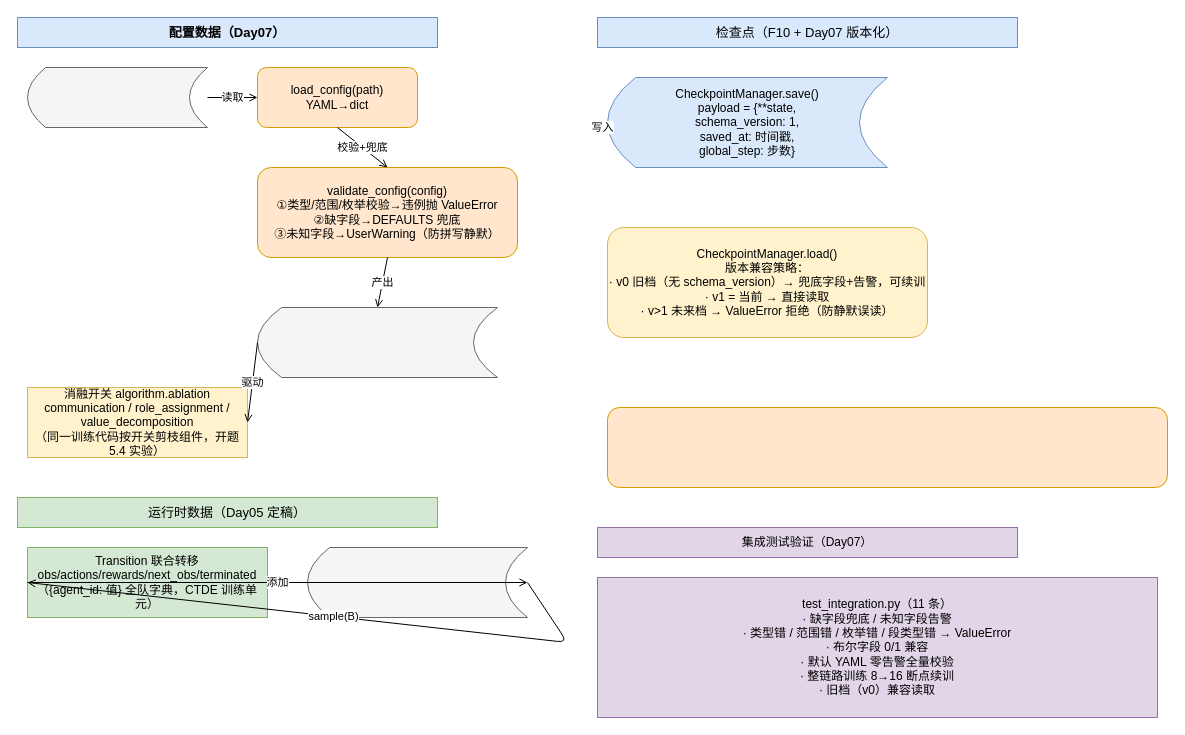
The diagram is 1185 pixels wide and 735 high, and some of its shapes have lost their labels. The centre of each missing label's shape, as x and y in pixels:
ReplayBuffer（环形） 容量淘汰最旧 / sample(B) 不足 B 时全量返回（不崩溃）: [417,582]
YAML 文件 src/configs/default.yaml: [117,97]
完整配置 dict env/algorithm(+ablation)/train/eval/logging: [377,342]
断点续训： trainer._global_step = state['global_step'] total_steps 为绝对预算（续训传回原始值）: [887,447]
